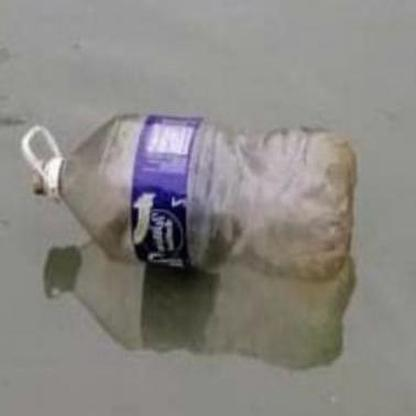plastic bottle: (23, 114, 353, 272)
